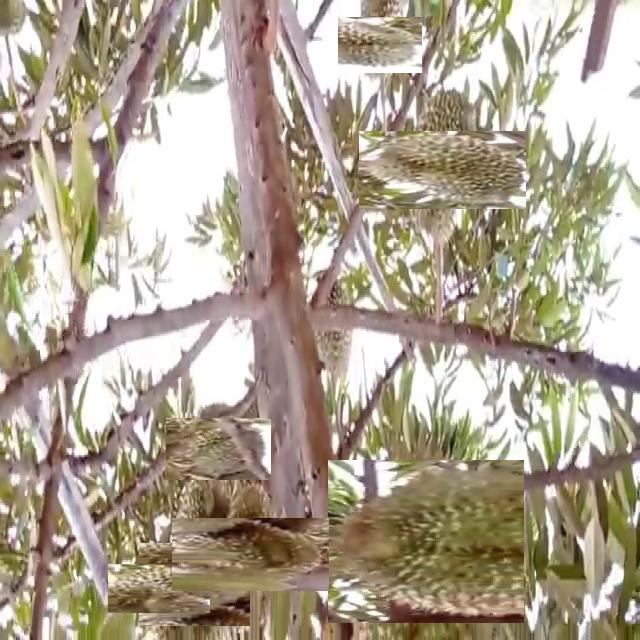durian: (335, 452, 516, 632), (381, 109, 504, 232), (193, 497, 309, 612), (146, 536, 244, 633), (176, 408, 261, 492), (121, 551, 197, 627), (306, 276, 354, 390), (344, 9, 415, 80)
